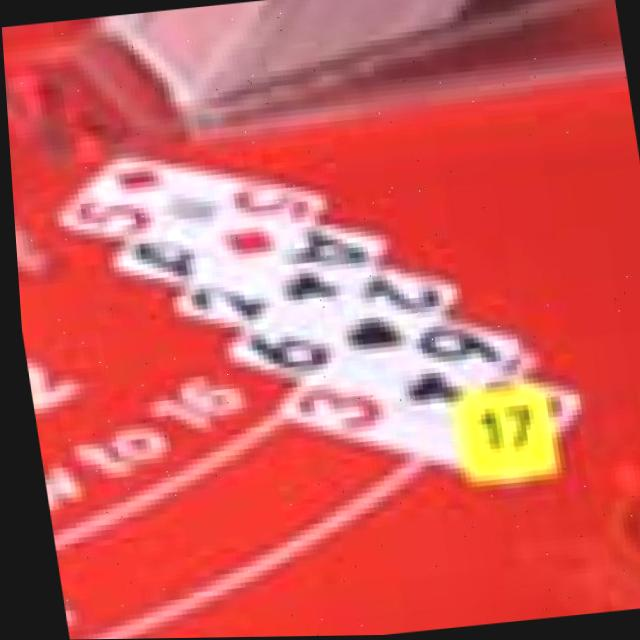Card-2: (169, 266, 456, 358)
Card-3: (275, 375, 578, 485)
Card-5: (54, 150, 326, 276)
Card-6: (221, 316, 514, 420)
Card-A: (107, 223, 380, 320)
